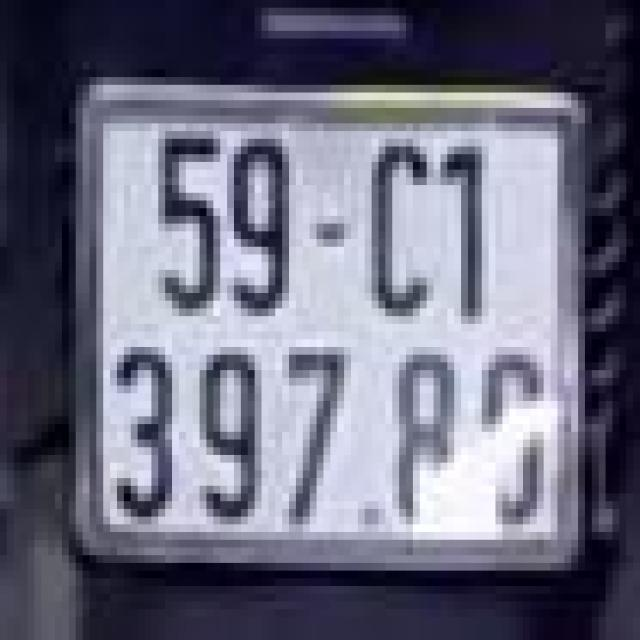0: (458, 336, 568, 544)
1: (437, 124, 506, 332)
3: (93, 324, 182, 532)
5: (141, 120, 224, 328)
7: (272, 332, 354, 540)
8: (378, 328, 468, 544)
9: (186, 332, 275, 540), (220, 120, 296, 343)
C: (351, 120, 440, 320)
